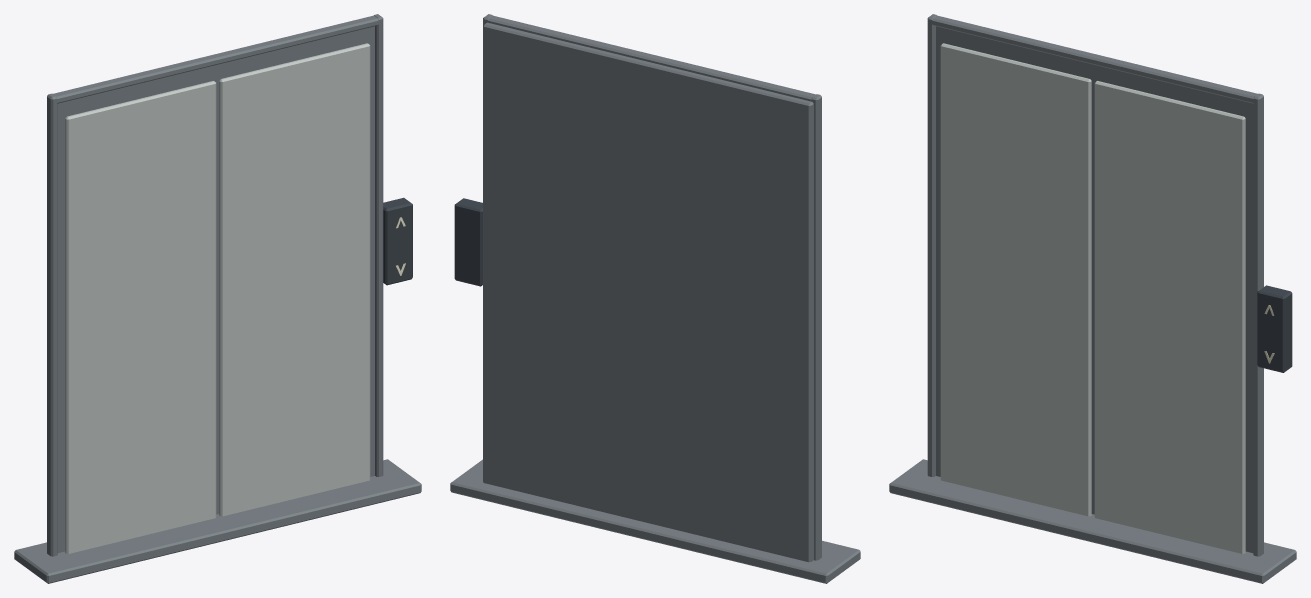
The model's file is ServiceElevatorFront.fbx.
The picture shows the model from 3 angles, left to right: view 1: azimuth 30°, elevation 25°; view 2: azimuth 150°, elevation 25°; view 3: azimuth 330°, elevation 25°; orthographic projection.
Visible parts, largest first — view 1: ServiceElevatorFront; view 2: ServiceElevatorFront; view 3: ServiceElevatorFront.
Part boxes in pixels (x1,y1,x2,y2): ServiceElevatorFront: (14, 14, 421, 583); ServiceElevatorFront: (450, 14, 860, 583); ServiceElevatorFront: (889, 14, 1296, 583).
Bounding box in the file's own units: 193 × 229 × 30.
1 material, 1 textured.
